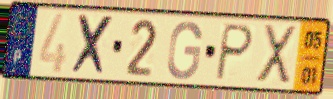2: (123, 17, 159, 79)
4: (37, 11, 69, 76)
G: (165, 19, 204, 82)
P: (212, 21, 256, 83)
X: (70, 12, 117, 79), (254, 22, 299, 88)
